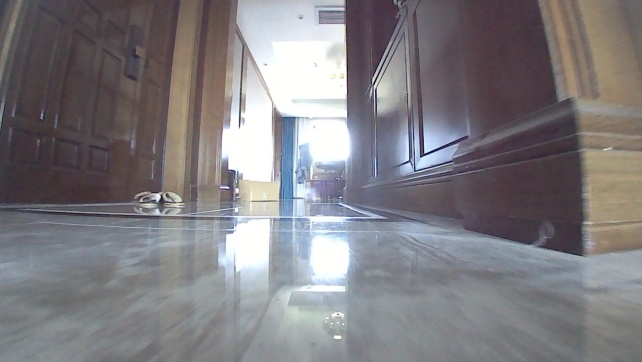door_anno: (0, 0, 206, 205)
